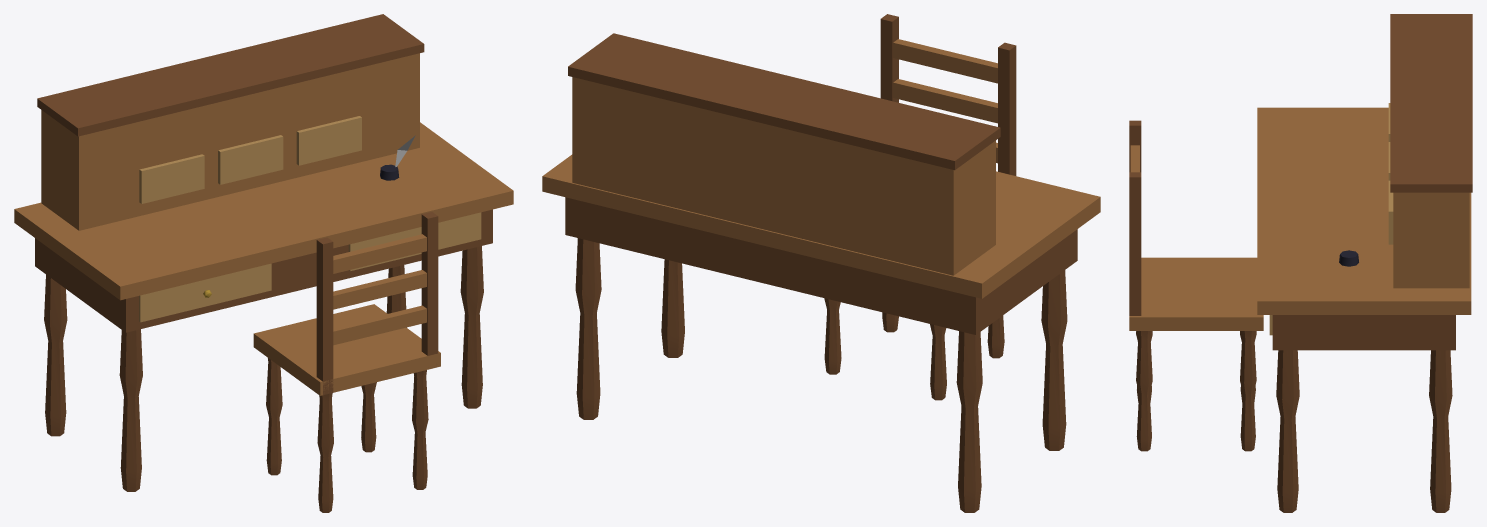
The model's file is writing_desk.glb.
3 views of the same model, side by side, from view 1: azimuth 30°, elevation 25°; view 2: azimuth 150°, elevation 25°; view 3: azimuth 270°, elevation 25° (orthographic). The views are drawn at different scales.
Parts seen in each view (by area): view 1: furniture-writing_desk; view 2: furniture-writing_desk; view 3: furniture-writing_desk.
Boxes of the visible parts, x1,y1,x2,y2 form: furniture-writing_desk: (14, 14, 513, 512); furniture-writing_desk: (542, 14, 1100, 512); furniture-writing_desk: (1129, 14, 1472, 512).
Size of the model in its own units: 1.29 by 1.02 by 0.97.
